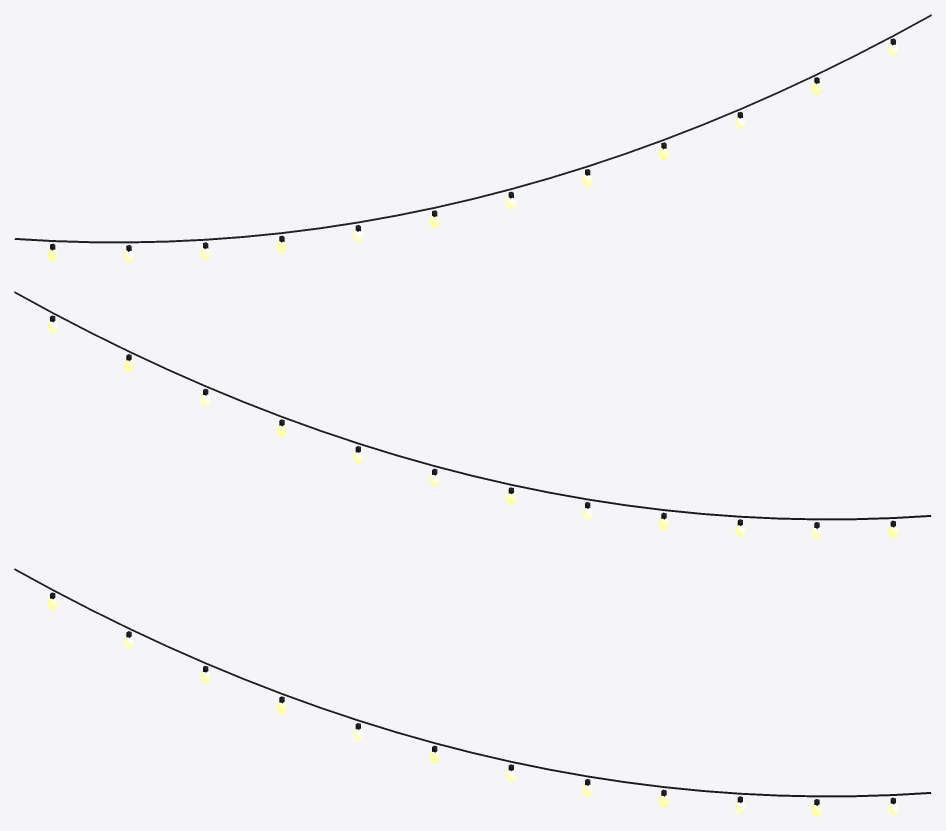
File: festoon_6m.glb
3 views of the same model, one above another, from view 1: azimuth 30°, elevation 25°; view 2: azimuth 150°, elevation 25°; view 3: azimuth 330°, elevation 25° (orthographic).
Parts seen in each view (by area): view 1: festoon_6m, bulbs; view 2: festoon_6m, bulbs; view 3: festoon_6m, bulbs.
Part boxes in pixels (left/top/right/bottom): festoon_6m: left=14, top=14, right=931, bottom=243; bulbs: left=47, top=38, right=898, bottom=262; festoon_6m: left=14, top=291, right=931, bottom=520; bulbs: left=47, top=315, right=898, bottom=539; festoon_6m: left=14, top=568, right=931, bottom=797; bulbs: left=47, top=592, right=898, bottom=816.
Size of the model in its own units: 6 by 0.5796 by 0.06.
